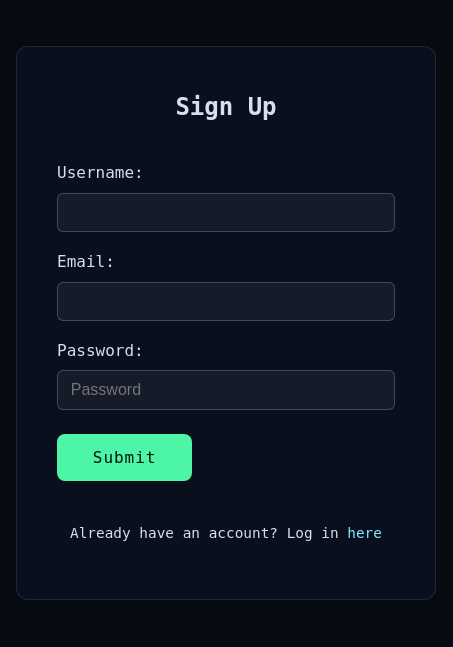
Test: Signup Page › shows error when fields are empty
The width and height of the screenshot is (453, 647).
Step 1. Click the button → (125, 457), box [57, 434, 192, 481]
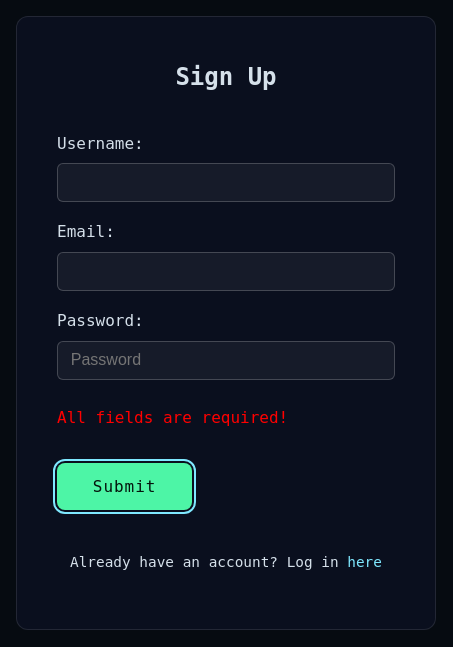
expect the text "All fields are required!" is shown: met, box [57, 408, 288, 427]
